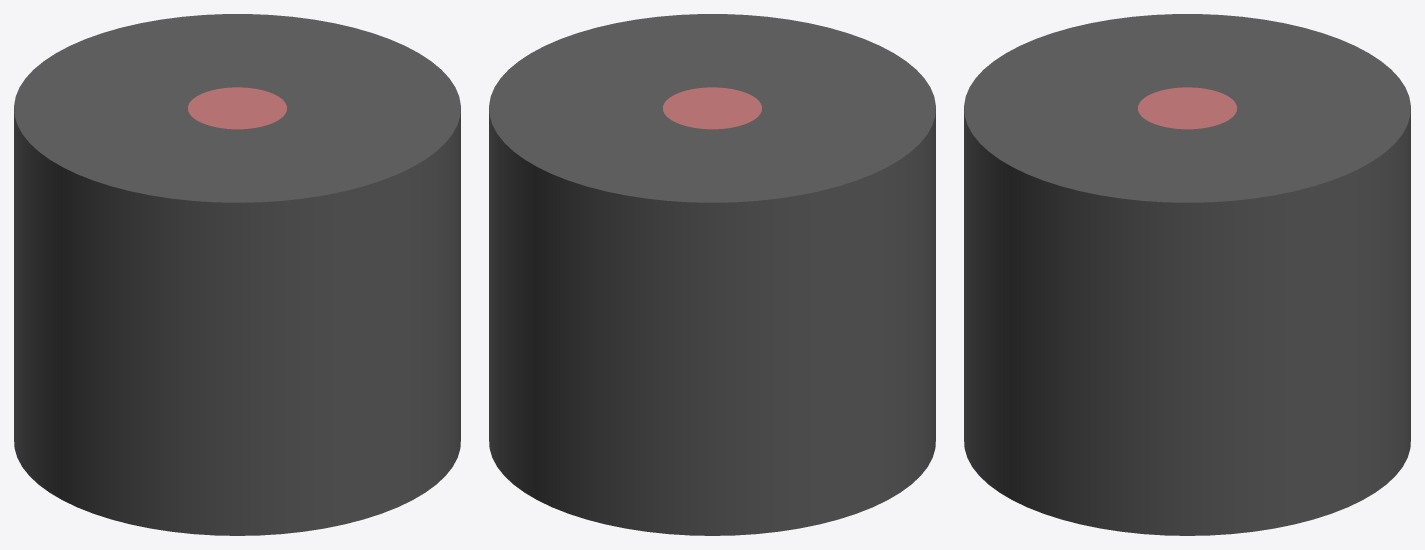
Rendered from step_02.glb.
The picture shows the model from 3 angles, left to right: view 1: azimuth 30°, elevation 25°; view 2: azimuth 150°, elevation 25°; view 3: azimuth 270°, elevation 25°; orthographic projection.
Visible parts, largest first — view 1: part__buzzer, removed__buzzer; view 2: part__buzzer, removed__buzzer; view 3: part__buzzer, removed__buzzer.
Boxes of the visible parts, bbox=[...] form: part__buzzer: bbox=[14, 14, 460, 535]; removed__buzzer: bbox=[188, 87, 286, 129]; part__buzzer: bbox=[489, 14, 935, 535]; removed__buzzer: bbox=[663, 87, 761, 129]; part__buzzer: bbox=[964, 14, 1410, 535]; removed__buzzer: bbox=[1138, 87, 1236, 129].
Bounding box in the file's own units: 8.99 × 7.4 × 9.
